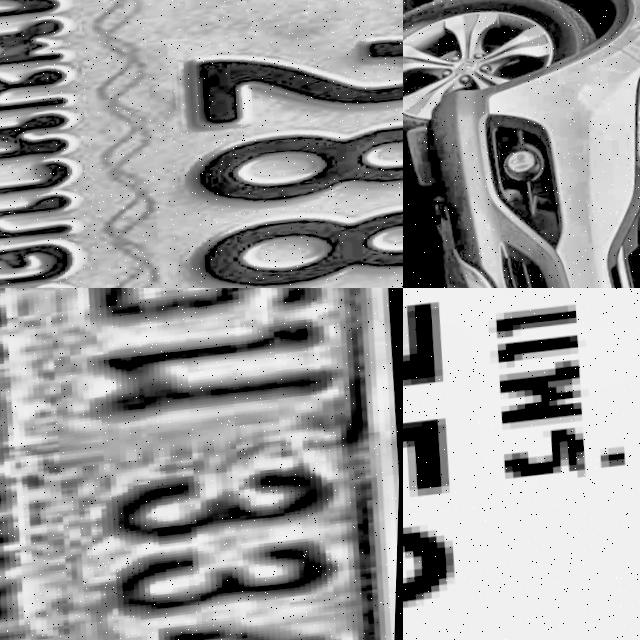license-plate: (0, 288, 403, 640), (0, 0, 403, 288), (403, 288, 640, 640)
